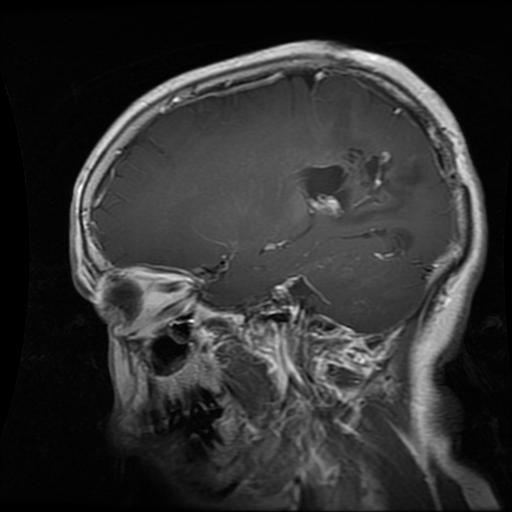Gliomia_tumour: (294, 145, 425, 252)
